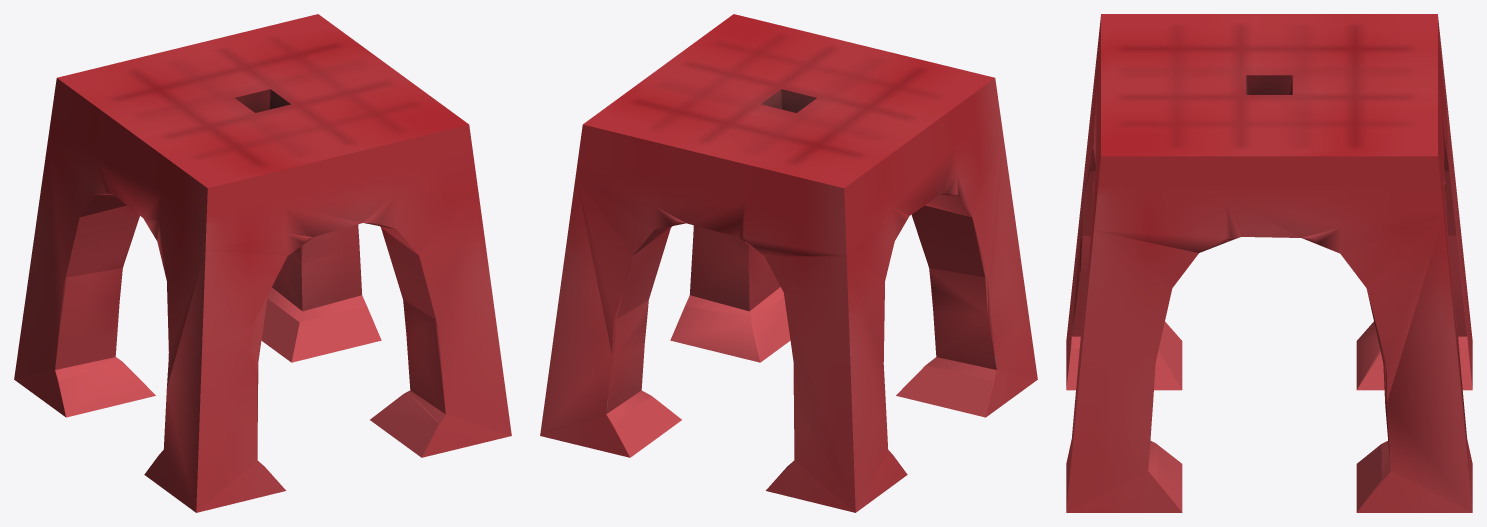
File: ghe_nhua_thap_edits.far.glb
3 renders of one model, left to right at view 1: azimuth 30°, elevation 25°; view 2: azimuth 150°, elevation 25°; view 3: azimuth 270°, elevation 25°, orthographic. The views are drawn at different scales.
Parts seen in each view (by area): view 1: ghe_nhua_thap_edits; view 2: ghe_nhua_thap_edits; view 3: ghe_nhua_thap_edits.
Boxes of the visible parts, x1=… form: ghe_nhua_thap_edits: x1=14, y1=14, x2=511, y2=512; ghe_nhua_thap_edits: x1=540, y1=14, x2=1037, y2=512; ghe_nhua_thap_edits: x1=1066, y1=14, x2=1472, y2=512.
Size of the model in its own units: 0.28 by 0.26 by 0.28.
Materials: 1 (1 with a texture image).
